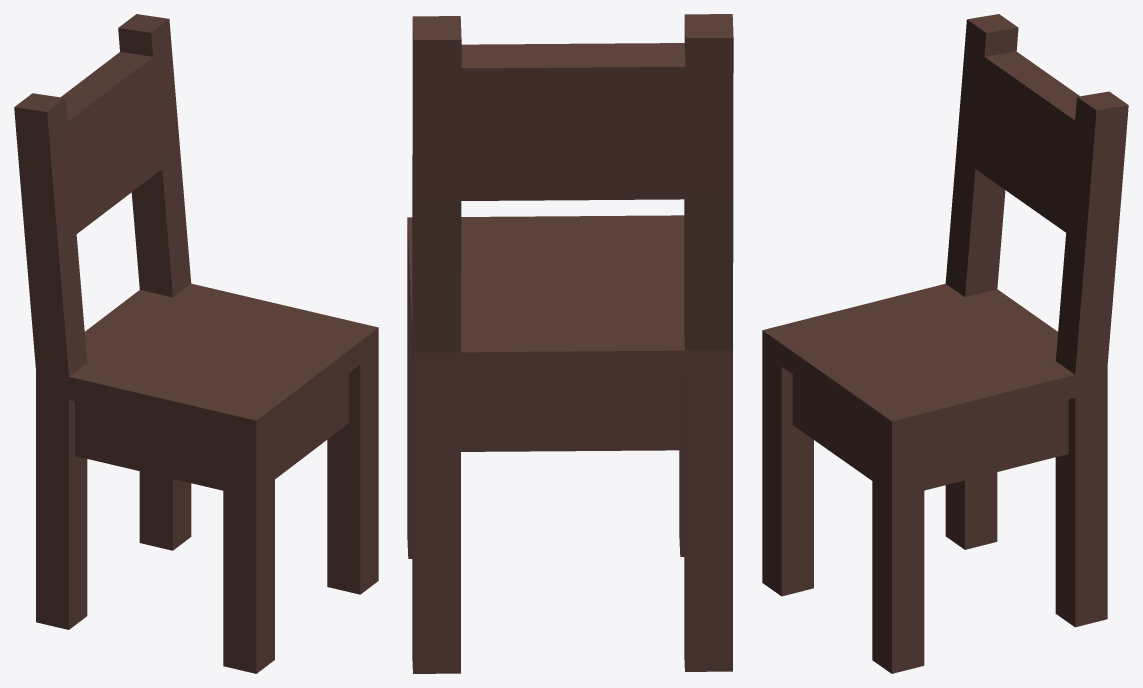
File: chair.gltf
3 views of the same model, side by side, from view 1: azimuth 30°, elevation 25°; view 2: azimuth 150°, elevation 25°; view 3: azimuth 270°, elevation 25° (orthographic). The views are drawn at different scales.
Parts seen in each view (by area): view 1: Cube.237; view 2: Cube.237; view 3: Cube.237.
Part boxes in pixels (box(x1,y1,x2,y2)): Cube.237: box(14, 14, 378, 673); Cube.237: box(407, 14, 733, 673); Cube.237: box(762, 14, 1128, 673).
Bounding box in the file's own units: 1.38 × 2.17 × 1.41.
Materials: 1 (1 with a texture image).
